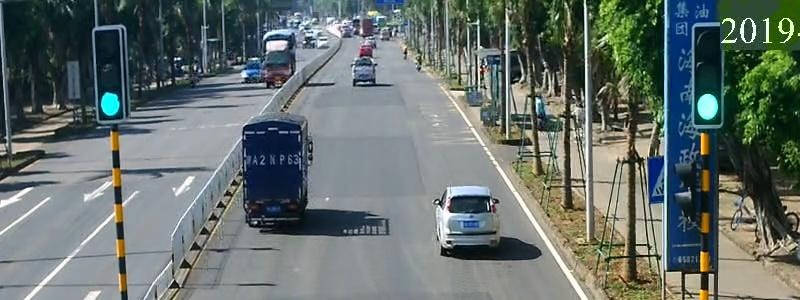green: (688, 87, 733, 132), (88, 87, 131, 122)
